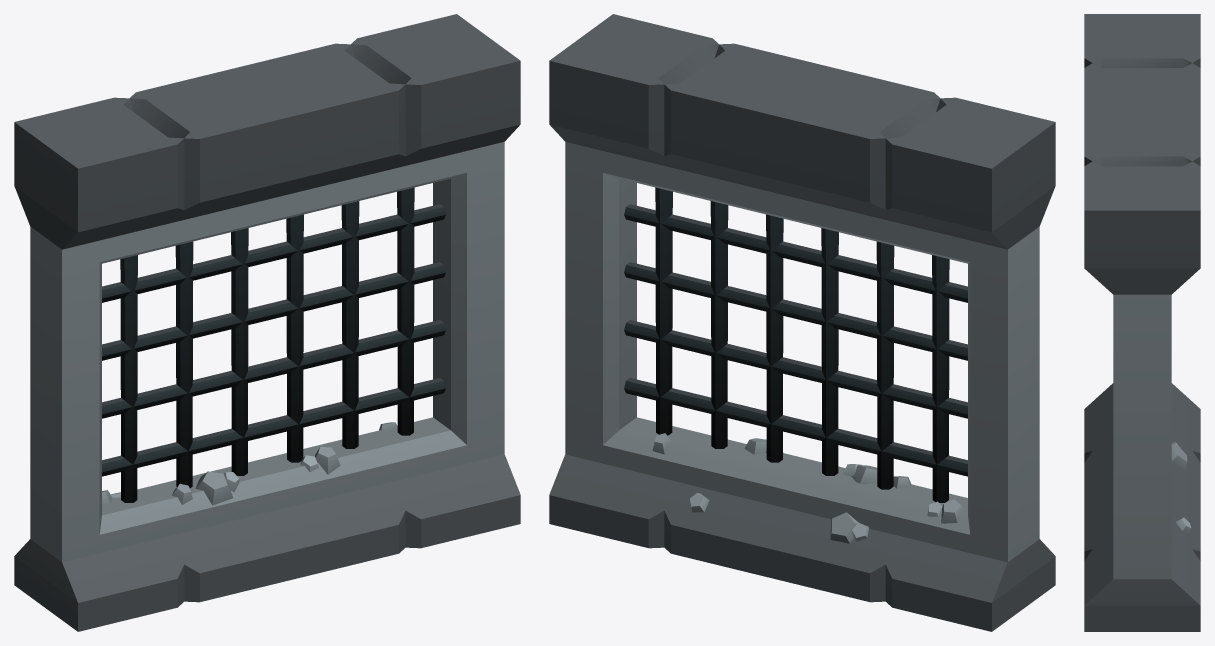
Rendered from wall_gated.gltf.
The picture shows the model from 3 angles, left to right: view 1: azimuth 30°, elevation 25°; view 2: azimuth 150°, elevation 25°; view 3: azimuth 270°, elevation 25°; orthographic projection. The views are drawn at different scales.
Parts seen in each view (by area): view 1: wall_gated; view 2: wall_gated; view 3: wall_gated.
Boxes of the visible parts, x1=… form: wall_gated: x1=14, y1=14, x2=520, y2=631; wall_gated: x1=549, y1=14, x2=1055, y2=631; wall_gated: x1=1084, y1=14, x2=1200, y2=631.
Bounding box in the file's own units: 4 × 4 × 1.
1 material, 1 textured.
